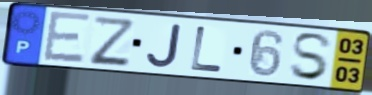6: (248, 28, 285, 79)
E: (41, 9, 94, 65)
J: (144, 22, 185, 70)
L: (188, 24, 226, 74)
S: (288, 32, 335, 83)
Z: (88, 14, 135, 66)
